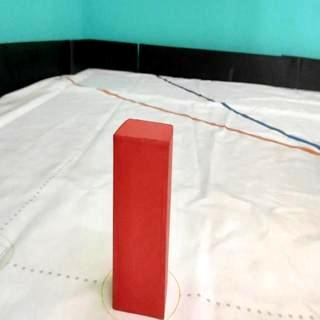redbox: (112, 117, 174, 320)
